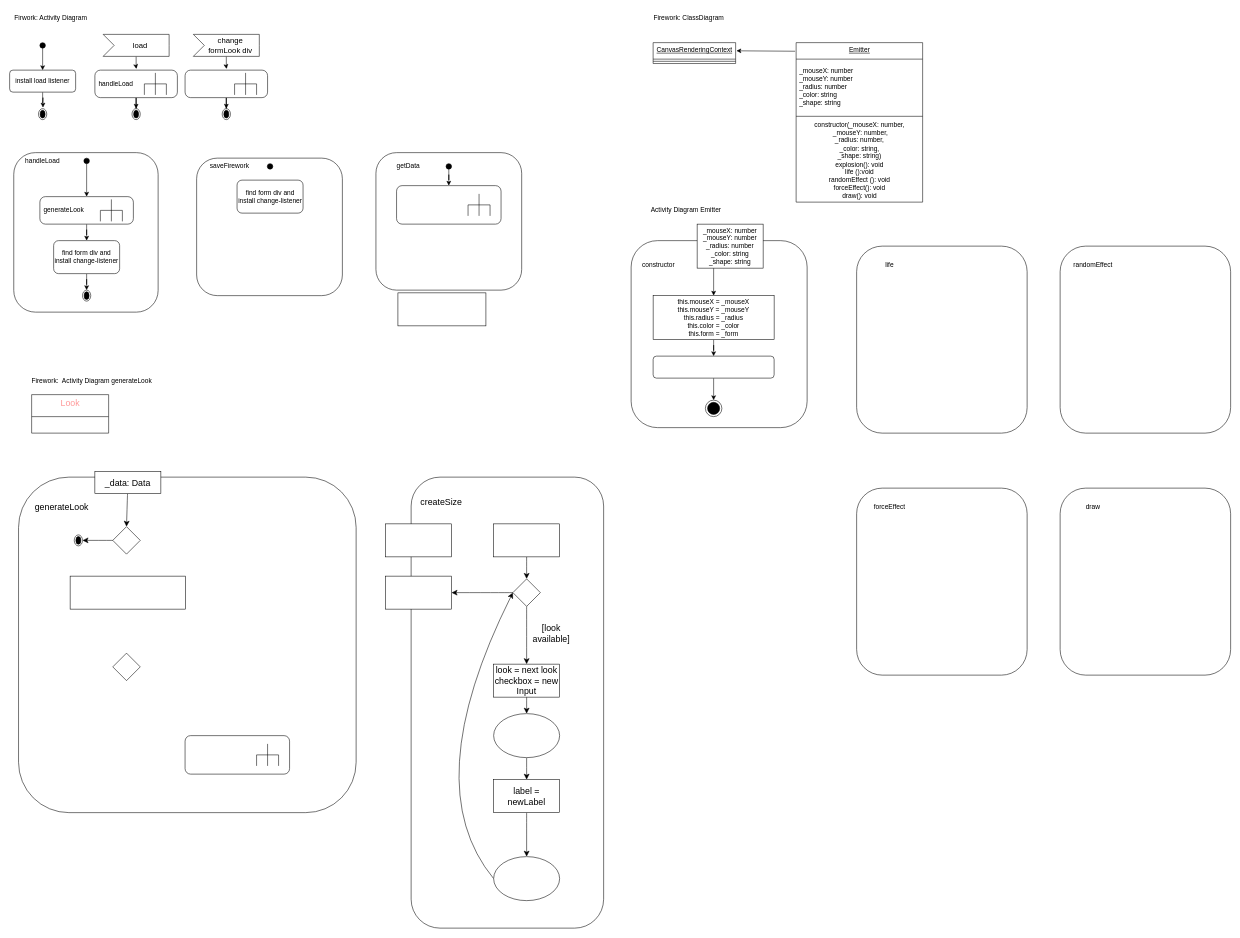
Some shapes in this 1240 by 938 pixel diagram are drawn without their labels. Here are the shapes that lost their labels. From the top down, the centre of each, then its label:
At (226,84): "handleChange".
At (448,204): "data = getDataFromForm()".
At (713,367): "create randomEffekt".
At (418,540): "_looks: Look[] _category:".
At (526,540): "group = newDiv".
At (128,592): "category: string = next key items:Item [] = next itemlist".
At (418,592): "group: HtmlDivElement".
At (237,754): "group = createSize () from Looks".
At (526,735): "set checkbox".
At (526,878): "append checkbox and label to group".
